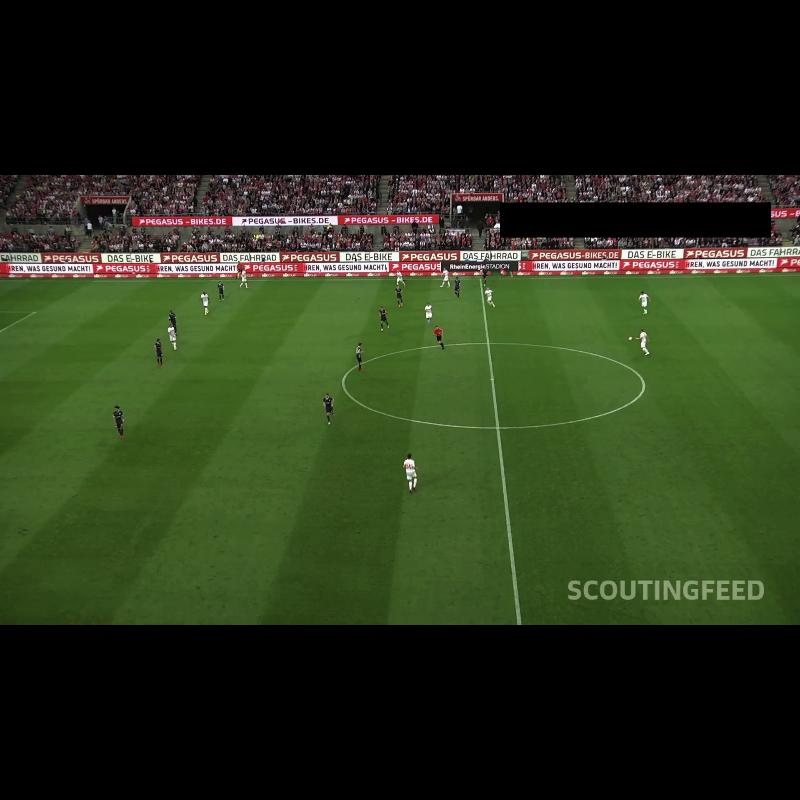cross_recipient_zone: (0, 312, 35, 331)
crossing_player_zone: (0, 281, 205, 313), (703, 275, 800, 314)
pitch: (0, 275, 800, 625)
